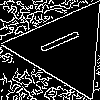I: (39, 23, 91, 55)
